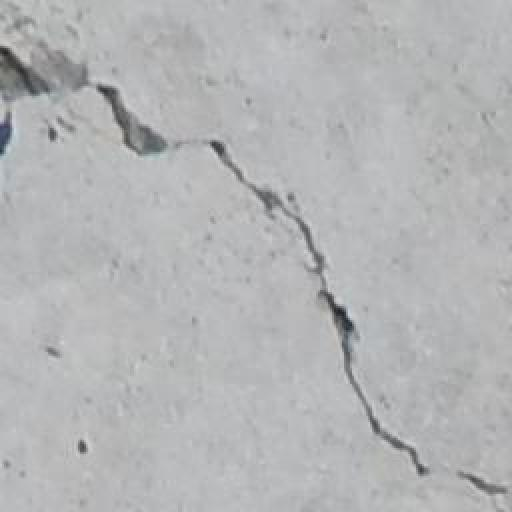spalling: (7, 27, 505, 509)
